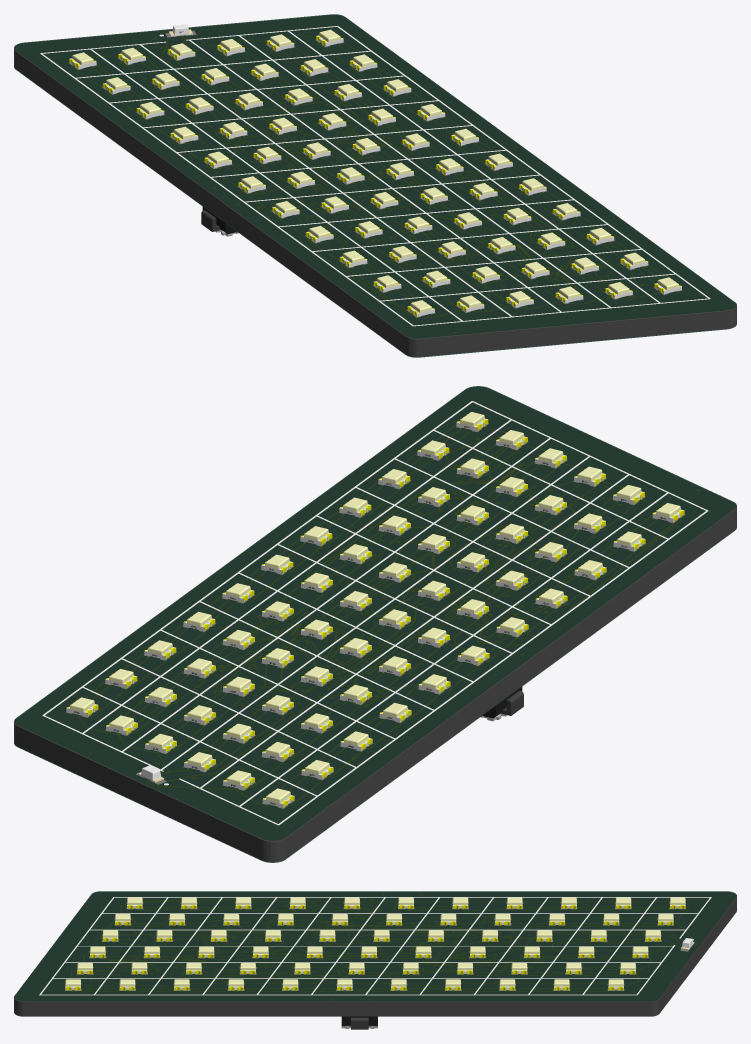
Rendered from board.glb.
3 views of the same model, one above another, from view 1: azimuth 30°, elevation 25°; view 2: azimuth 150°, elevation 25°; view 3: azimuth 270°, elevation 25° (orthographic). The views are drawn at different scales.
Visible parts, largest first — view 1: parallelogram_soldermask (×2), parallelogram_PCB, parallelogram_silkscreen, parallelogram_copper, parallelogram_pad; view 2: parallelogram_soldermask (×2), parallelogram_PCB, parallelogram_silkscreen, parallelogram_copper, parallelogram_pad; view 3: parallelogram_soldermask (×2), parallelogram_PCB, parallelogram_silkscreen, parallelogram_pad, parallelogram_copper, SW-SMD_EVQP7C01P-L3.6-W3.5-H1.4-P3.6-LS4.7.
Part boxes in pixels (left/top/right/bottom): parallelogram_soldermask (×2): left=14, top=14, right=736, bottom=357; parallelogram_PCB: left=14, top=15, right=736, bottom=357; parallelogram_silkscreen: left=40, top=26, right=710, bottom=326; parallelogram_copper: left=72, top=31, right=666, bottom=333; parallelogram_pad: left=68, top=30, right=682, bottom=317; parallelogram_soldermask (×2): left=14, top=386, right=736, bottom=862; parallelogram_PCB: left=14, top=387, right=736, bottom=862; parallelogram_silkscreen: left=42, top=401, right=708, bottom=825; parallelogram_copper: left=79, top=425, right=699, bottom=806; parallelogram_pad: left=66, top=423, right=684, bottom=808; parallelogram_soldermask (×2): left=14, top=891, right=736, bottom=1016; parallelogram_PCB: left=14, top=892, right=736, bottom=1016; parallelogram_silkscreen: left=39, top=897, right=711, bottom=995; parallelogram_pad: left=65, top=902, right=694, bottom=990; parallelogram_copper: left=52, top=898, right=696, bottom=991; SW-SMD_EVQP7C01P-L3.6-W3.5-H1.4-P3.6-LS4.7: left=341, top=1016, right=377, bottom=1029.
Bounding box in the file's own units: 0.0259 × 0.00363 × 0.0693.
